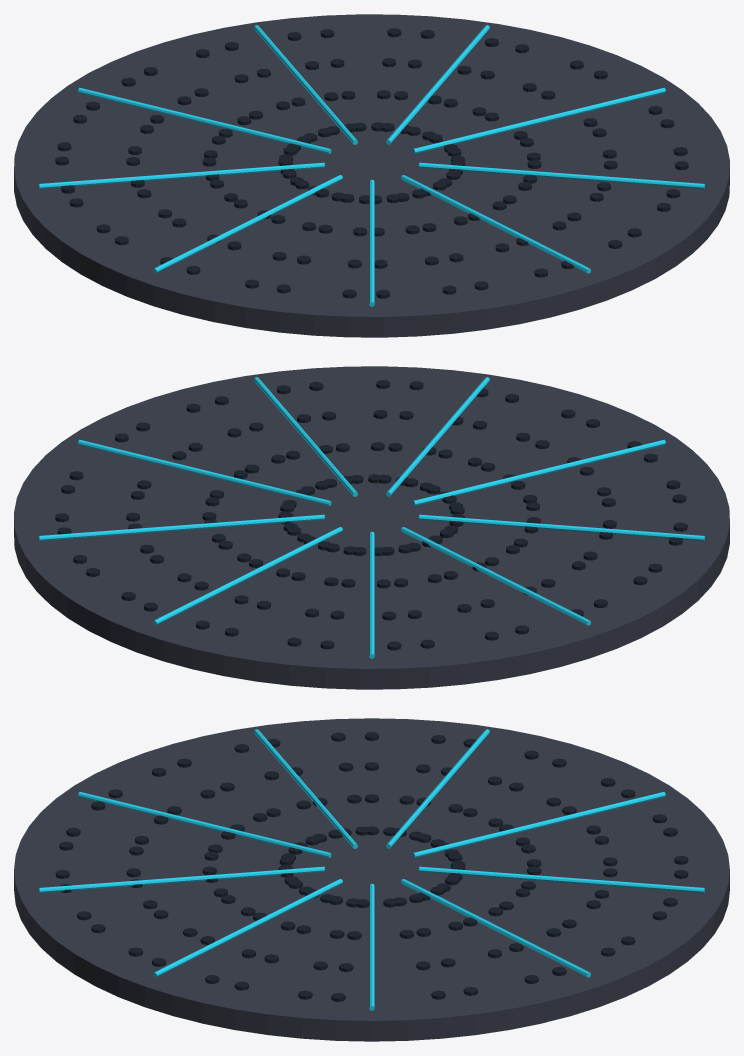
The model's file is 27_L77_SoftLandingPrecisionPad.fbx.
3 views of the same model, one above another, from view 1: azimuth 30°, elevation 25°; view 2: azimuth 150°, elevation 25°; view 3: azimuth 270°, elevation 25° (orthographic).
Parts seen in each view (by area): view 1: SoftLandingPrecisionPad_Part_0000, SoftLandingPrecisionPad_Part_0154, SoftLandingPrecisionPad_Part_0158, SoftLandingPrecisionPad_Part_0153, SoftLandingPrecisionPad_Part_0159, SoftLandingPrecisionPad_Part_0157, SoftLandingPrecisionPad_Part_0155, SoftLandingPrecisionPad_Part_0160, SoftLandingPrecisionPad_Part_0161, SoftLandingPrecisionPad_Part_0156; view 2: SoftLandingPrecisionPad_Part_0000, SoftLandingPrecisionPad_Part_0161, SoftLandingPrecisionPad_Part_0157, SoftLandingPrecisionPad_Part_0153, SoftLandingPrecisionPad_Part_0156, SoftLandingPrecisionPad_Part_0160, SoftLandingPrecisionPad_Part_0158, SoftLandingPrecisionPad_Part_0154, SoftLandingPrecisionPad_Part_0155, SoftLandingPrecisionPad_Part_0159; view 3: SoftLandingPrecisionPad_Part_0000, SoftLandingPrecisionPad_Part_0160, SoftLandingPrecisionPad_Part_0155, SoftLandingPrecisionPad_Part_0159, SoftLandingPrecisionPad_Part_0156, SoftLandingPrecisionPad_Part_0154, SoftLandingPrecisionPad_Part_0161, SoftLandingPrecisionPad_Part_0157, SoftLandingPrecisionPad_Part_0158, SoftLandingPrecisionPad_Part_0153.
Part boxes in pixels (x1,y1,x2,y2): SoftLandingPrecisionPad_Part_0000: [14, 14, 729, 337]; SoftLandingPrecisionPad_Part_0154: [419, 162, 705, 188]; SoftLandingPrecisionPad_Part_0158: [38, 162, 324, 188]; SoftLandingPrecisionPad_Part_0153: [412, 87, 665, 153]; SoftLandingPrecisionPad_Part_0159: [78, 87, 331, 153]; SoftLandingPrecisionPad_Part_0157: [152, 175, 342, 273]; SoftLandingPrecisionPad_Part_0155: [401, 175, 591, 273]; SoftLandingPrecisionPad_Part_0160: [254, 25, 357, 144]; SoftLandingPrecisionPad_Part_0161: [386, 25, 489, 144]; SoftLandingPrecisionPad_Part_0156: [369, 179, 374, 306]; SoftLandingPrecisionPad_Part_0000: [14, 366, 729, 689]; SoftLandingPrecisionPad_Part_0161: [38, 514, 324, 540]; SoftLandingPrecisionPad_Part_0157: [419, 514, 705, 540]; SoftLandingPrecisionPad_Part_0153: [78, 439, 331, 505]; SoftLandingPrecisionPad_Part_0156: [412, 439, 665, 505]; SoftLandingPrecisionPad_Part_0160: [152, 527, 342, 625]; SoftLandingPrecisionPad_Part_0158: [401, 527, 591, 625]; SoftLandingPrecisionPad_Part_0154: [254, 377, 357, 496]; SoftLandingPrecisionPad_Part_0155: [386, 377, 489, 496]; SoftLandingPrecisionPad_Part_0159: [369, 531, 374, 658]; SoftLandingPrecisionPad_Part_0000: [14, 718, 729, 1041]; SoftLandingPrecisionPad_Part_0160: [419, 866, 704, 892]; SoftLandingPrecisionPad_Part_0155: [39, 866, 324, 892]; SoftLandingPrecisionPad_Part_0159: [412, 792, 665, 857]; SoftLandingPrecisionPad_Part_0156: [78, 792, 331, 857]; SoftLandingPrecisionPad_Part_0154: [153, 879, 342, 977]; SoftLandingPrecisionPad_Part_0161: [401, 879, 590, 977]; SoftLandingPrecisionPad_Part_0157: [254, 729, 357, 848]; SoftLandingPrecisionPad_Part_0158: [386, 729, 489, 848]; SoftLandingPrecisionPad_Part_0153: [369, 883, 374, 1010].
Size of the model in its own units: 282 by 11.8 by 282.
